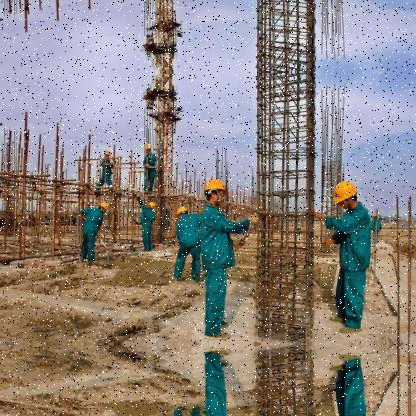helmet: (202, 174, 231, 208), (334, 176, 362, 210), (177, 202, 191, 216), (98, 199, 112, 212), (144, 139, 156, 153), (146, 198, 157, 210), (104, 145, 114, 158), (143, 0, 156, 2)
